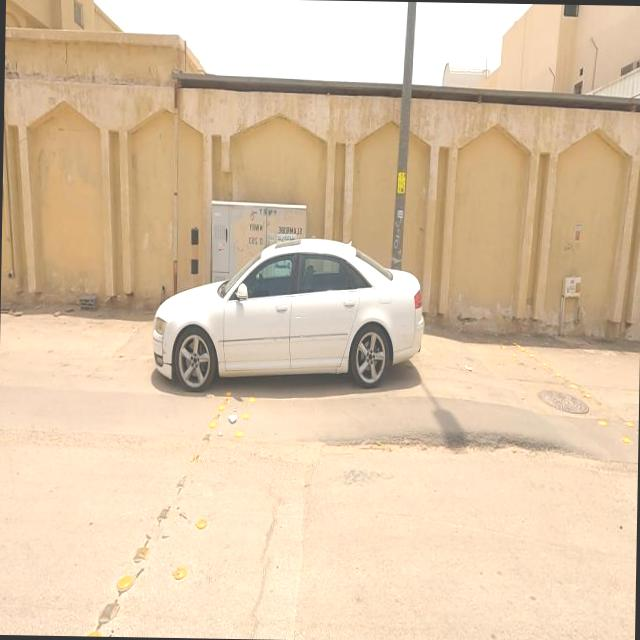debris: (202, 395, 266, 452)
